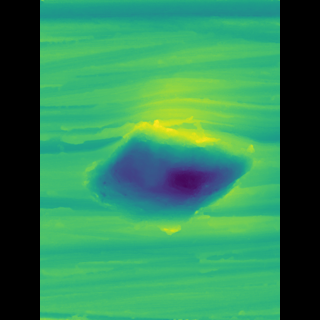Loch: (99, 106, 235, 239)
